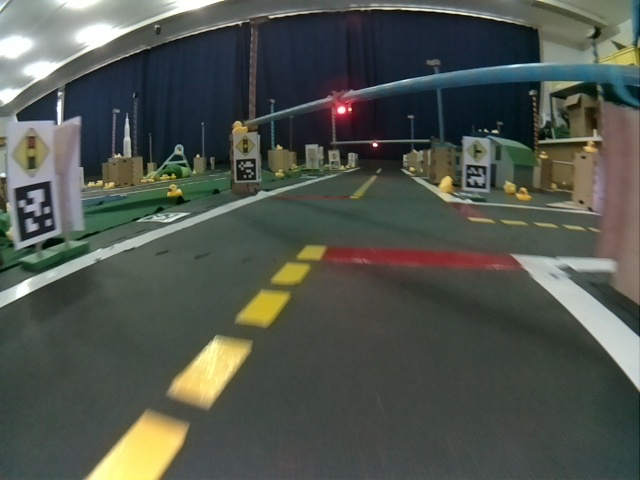Duckie: (439, 176, 455, 193), (234, 121, 245, 132), (519, 189, 529, 201), (169, 184, 180, 194), (505, 183, 514, 193), (539, 151, 549, 160), (587, 144, 597, 152)
Intersection sign: (466, 140, 485, 162)
QR code: (14, 186, 55, 242), (138, 212, 191, 222), (466, 166, 486, 188), (237, 159, 256, 180)
Signal sign: (10, 126, 50, 174), (236, 136, 255, 156)
Traffic light: (332, 91, 351, 113)
